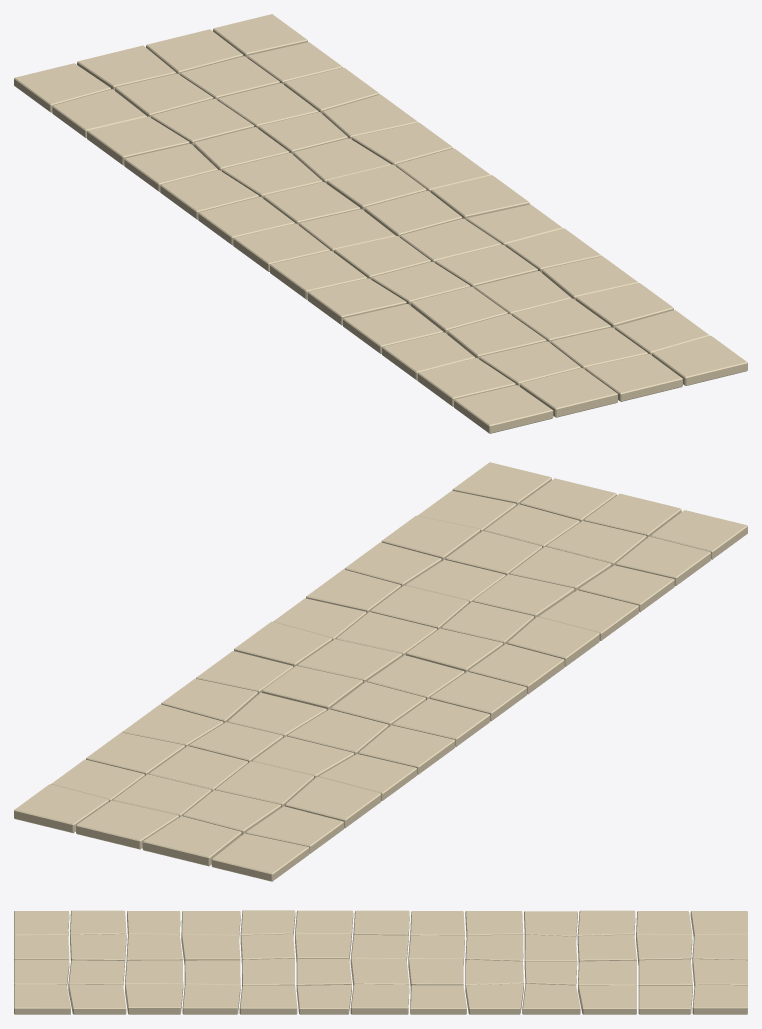
Rendered from Path2.fbx.
3 views of the same model, one above another, from view 1: azimuth 30°, elevation 25°; view 2: azimuth 150°, elevation 25°; view 3: azimuth 270°, elevation 25° (orthographic). The views are drawn at different scales.
Parts seen in each view (by area): view 1: Path1_0_0.001; view 2: Path1_0_0.001; view 3: Path1_0_0.001.
Part boxes in pixels (x1,y1,x2,y2): Path1_0_0.001: (14,14,747,433); Path1_0_0.001: (14,462,747,881); Path1_0_0.001: (14,910,747,1014).
Size of the model in its own units: 2384 by 85.49 by 7584.
